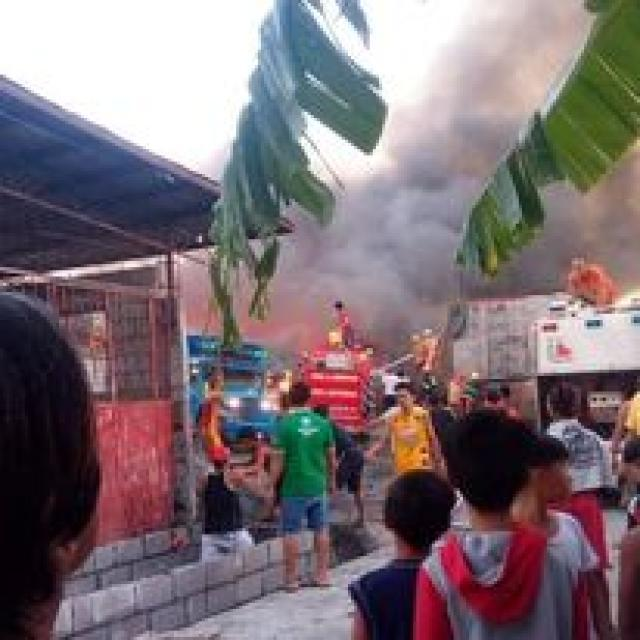Smoke: (416, 7, 566, 123), (360, 178, 463, 304), (550, 197, 640, 300), (276, 250, 382, 326)
